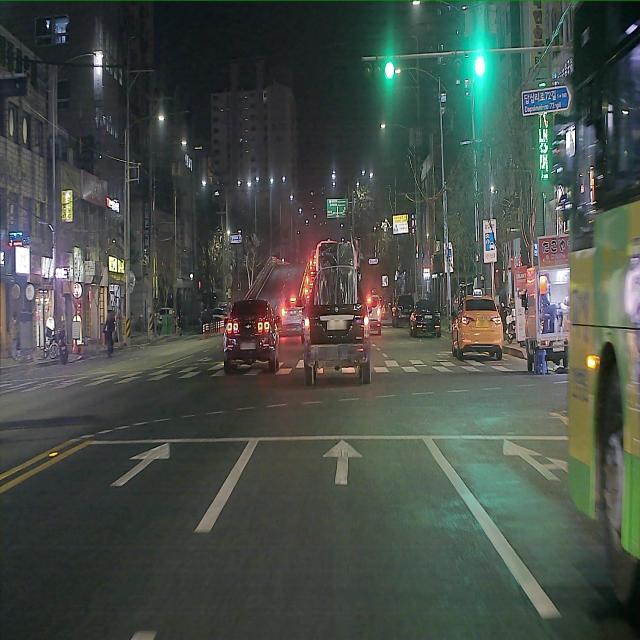Green Light: (473, 56, 486, 78), (384, 61, 394, 79)
